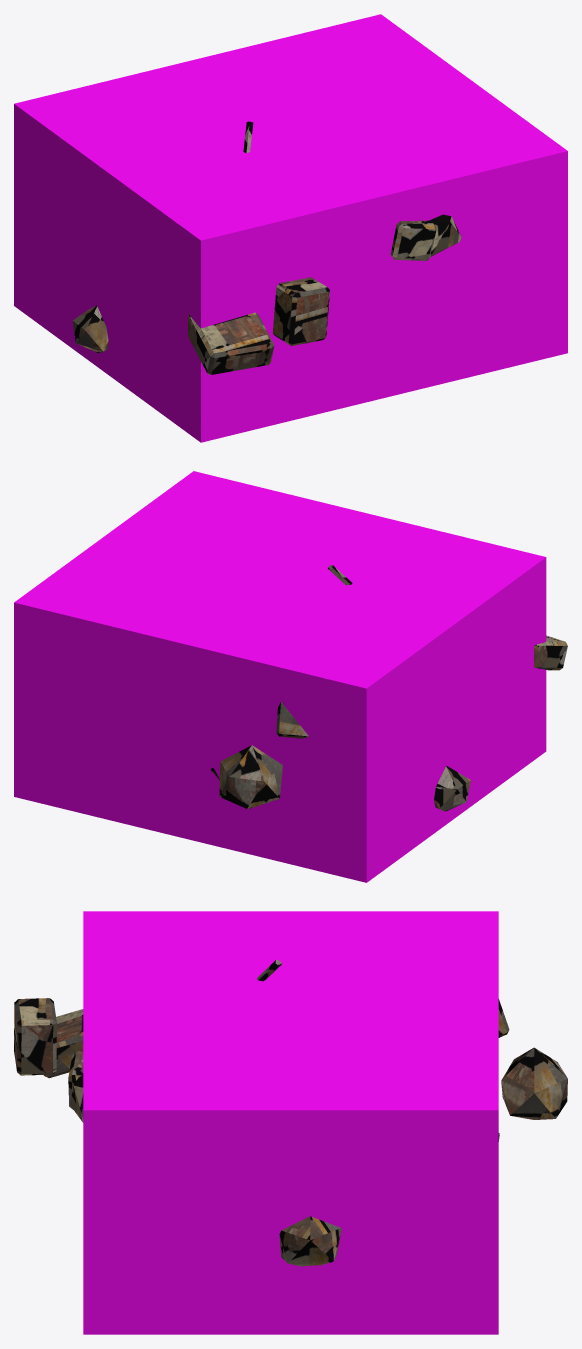
The model's file is prop_rubble_medium.glb.
3 renders of one model, top to bottom at view 1: azimuth 30°, elevation 25°; view 2: azimuth 150°, elevation 25°; view 3: azimuth 270°, elevation 25°, orthographic. The views are drawn at different scales.
Parts seen in each view (by area): view 1: prop_rubble_medium-col, Rubble; view 2: prop_rubble_medium-col, Rubble; view 3: prop_rubble_medium-col, Rubble.
Boxes of the visible parts, <box> form: prop_rubble_medium-col: <box>14,14,567,442</box>; Rubble: <box>72,121,461,374</box>; prop_rubble_medium-col: <box>14,471,546,882</box>; Rubble: <box>211,565,567,811</box>; prop_rubble_medium-col: <box>83,911,498,1334</box>; Rubble: <box>14,960,567,1266</box>.
Bounding box in the file's own units: 1.06 × 0.5563 × 1.12.
Materials: 2 (1 with a texture image).
